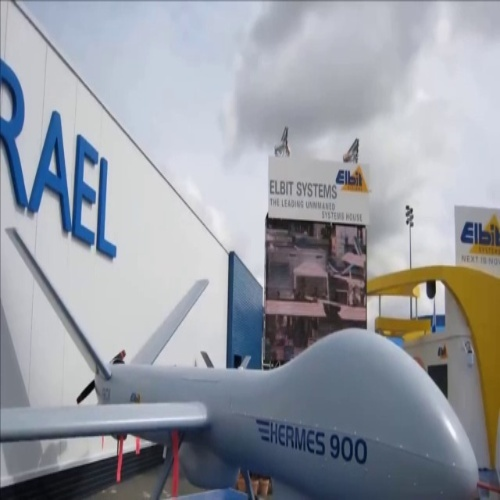uav: (3, 228, 485, 500)
